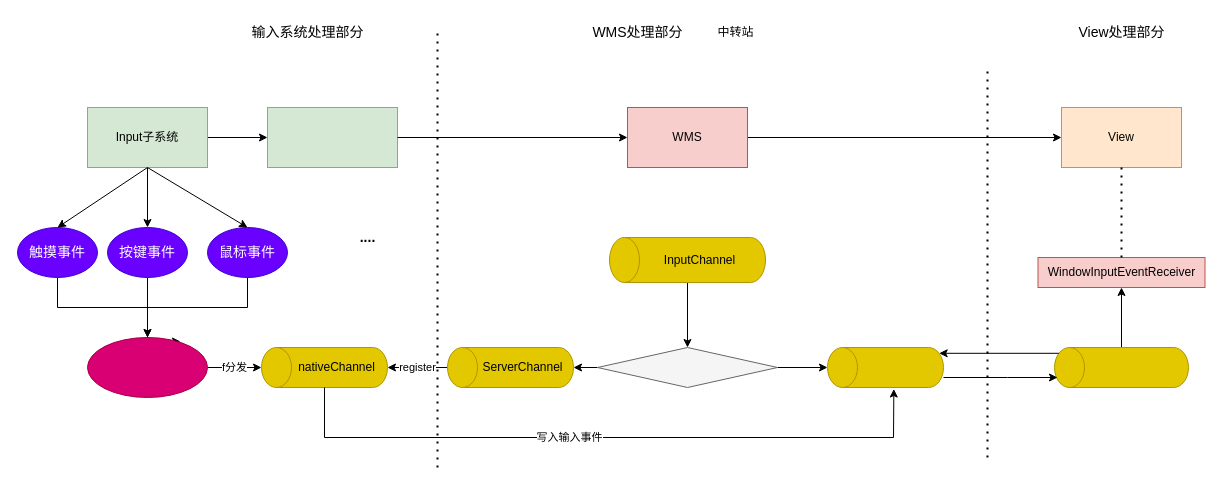
Some shapes in this 1223 by 486 pixel diagram are drawn without their labels. Each missing label, with the centre of its shape:
ClientChannel: point 885,367
EventHub: point 147,367
IMS: point 332,137
openInputChannelPair: point 687,367
outInputChannel: point 1121,367
